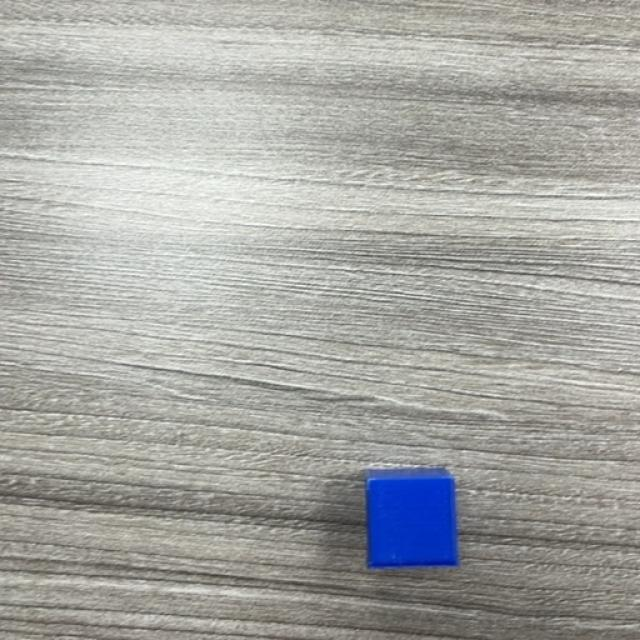Azul: (365, 471, 461, 572)
